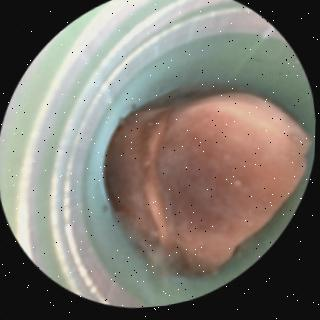stone: (105, 85, 311, 281)
